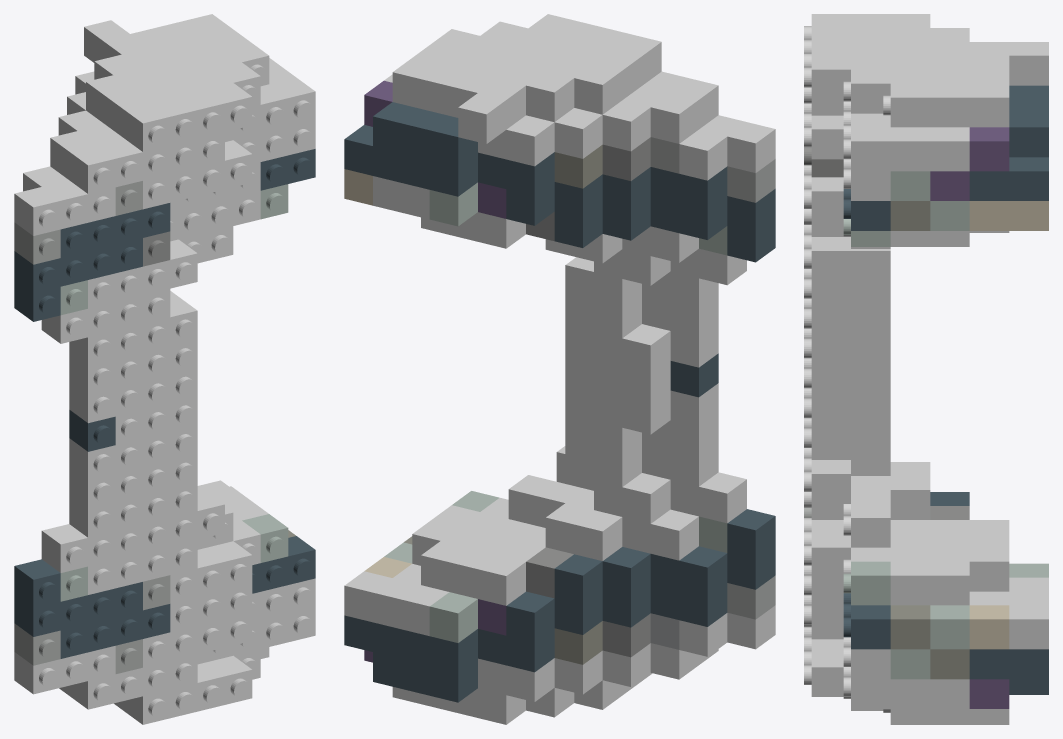
File: full.glb
The picture shows the model from 3 angles, left to right: view 1: azimuth 30°, elevation 25°; view 2: azimuth 150°, elevation 25°; view 3: azimuth 270°, elevation 25°; orthographic projection. The views are drawn at different scales.
Parts seen in each view (by area): view 1: world; view 2: world; view 3: world.
Part boxes in pixels (x1=…): world: x1=14, y1=14, x2=315, y2=724; world: x1=344, y1=14, x2=775, y2=724; world: x1=804, y1=14, x2=1048, y2=724.
Size of the model in its own units: 88 by 168 by 59.4.
